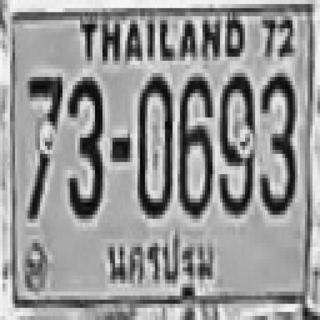N00: (136, 73, 171, 215)
N03: (258, 69, 295, 211), (65, 73, 102, 215)
N06: (176, 73, 211, 215)
N07: (25, 73, 62, 219)
N09: (218, 69, 252, 211)
P28: (103, 228, 218, 297)
